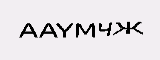Д: (81, 18, 100, 41)
З: (52, 19, 67, 42)
И: (68, 22, 82, 42)
К: (35, 18, 53, 40)
Н: (103, 12, 122, 33)
